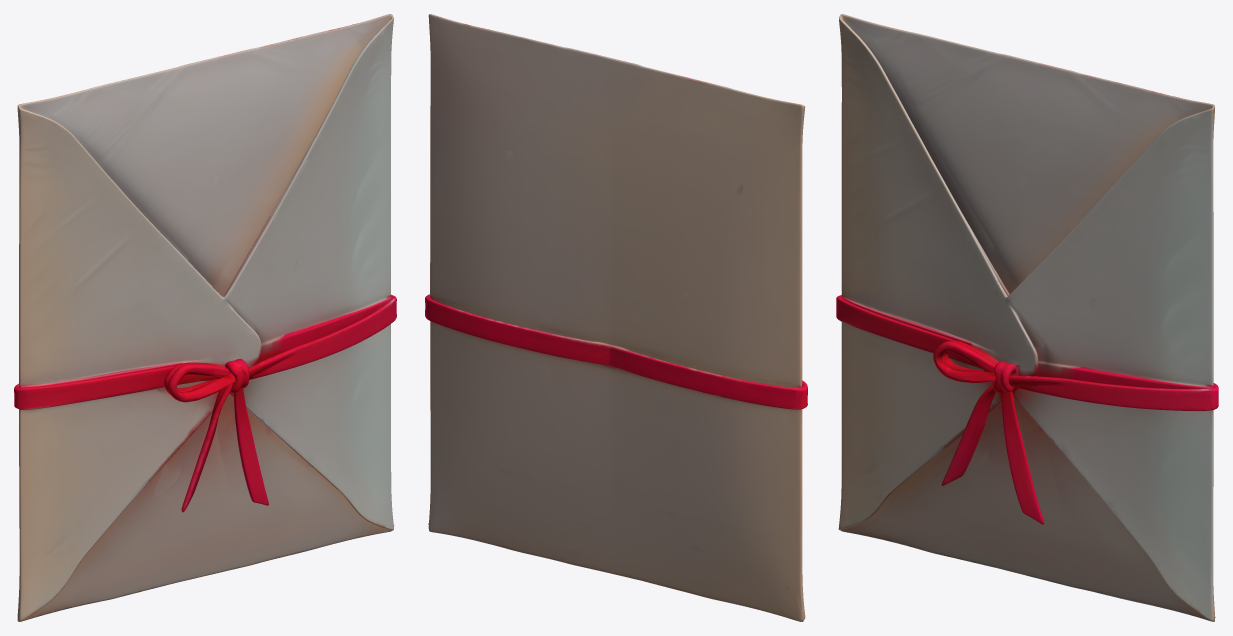
File: mailPaper.fbx
3 renders of one model, left to right at view 1: azimuth 30°, elevation 25°; view 2: azimuth 150°, elevation 25°; view 3: azimuth 330°, elevation 25°, orthographic.
Parts seen in each view (by area): view 1: material; view 2: material; view 3: material.
Part boxes in pixels (x1,y1,x2,y2): material: [14, 14, 396, 621]; material: [425, 14, 807, 621]; material: [836, 14, 1218, 621].
Bounding box in the file's own units: 73.6 × 95.58 × 14.52.
